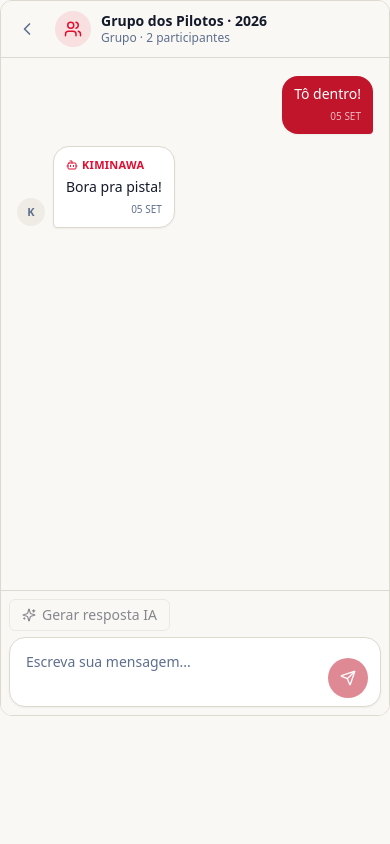
Scenario: Conversation Hub - abertura › no mobile, voltar da thread para a lista é explícito
Expected: the text "Grupo · 2 participantes" is shown, [101,29,230,46]
Click the button named "Voltar para conversas" at x=27, y=29, box [9,11,45,47]
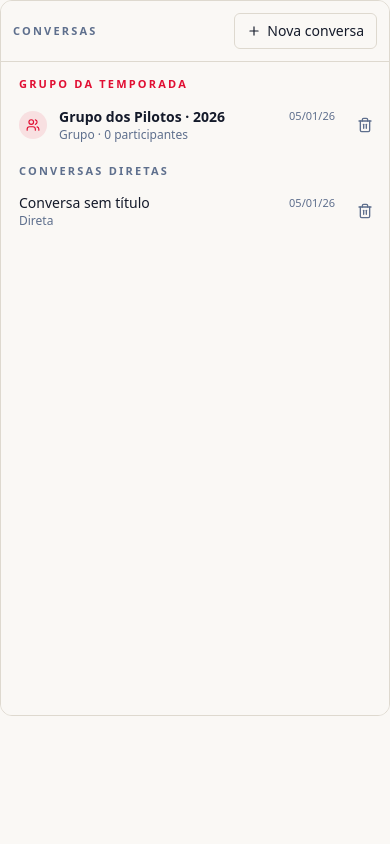
Expected: the field with placeholder "escreva" is not shown
Expected: the text "Grupo · 2 participantes" is gone
Expected: the text "Grupo da temporada" is shown, [19,76,188,91]
